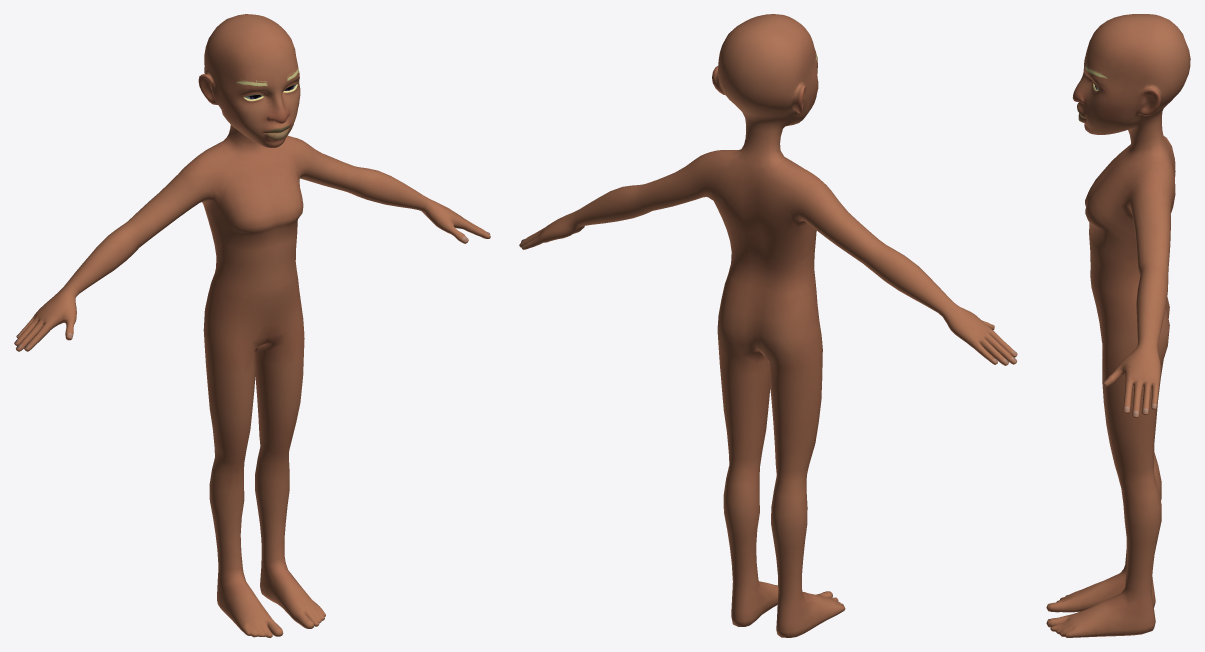
The model's file is frame_0011.glb.
The picture shows the model from 3 angles, left to right: view 1: azimuth 30°, elevation 25°; view 2: azimuth 150°, elevation 25°; view 3: azimuth 270°, elevation 25°; orthographic projection. The views are drawn at different scales.
Visible parts, largest first — view 1: frame_0011_head_geo; view 2: frame_0011_head_geo; view 3: frame_0011_head_geo.
Boxes of the visible parts, x1,y1,x2,y2 form: frame_0011_head_geo: [14, 14, 490, 637]; frame_0011_head_geo: [519, 14, 1017, 637]; frame_0011_head_geo: [1046, 14, 1190, 637].
Bounding box in the file's own units: 1.28 × 1.5 × 0.3253.
Materials: 3 (3 with a texture image).
